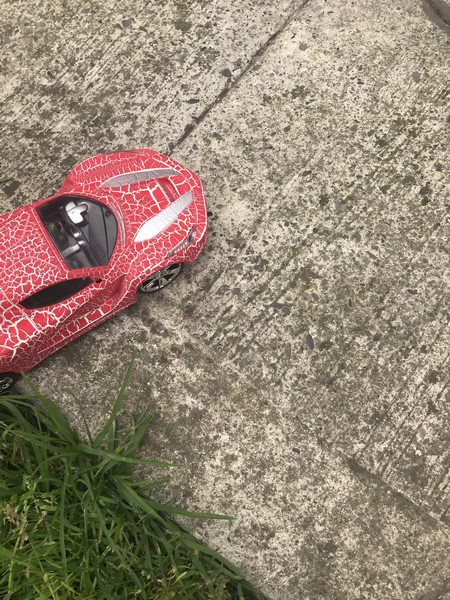RC: (1, 146, 221, 395)
